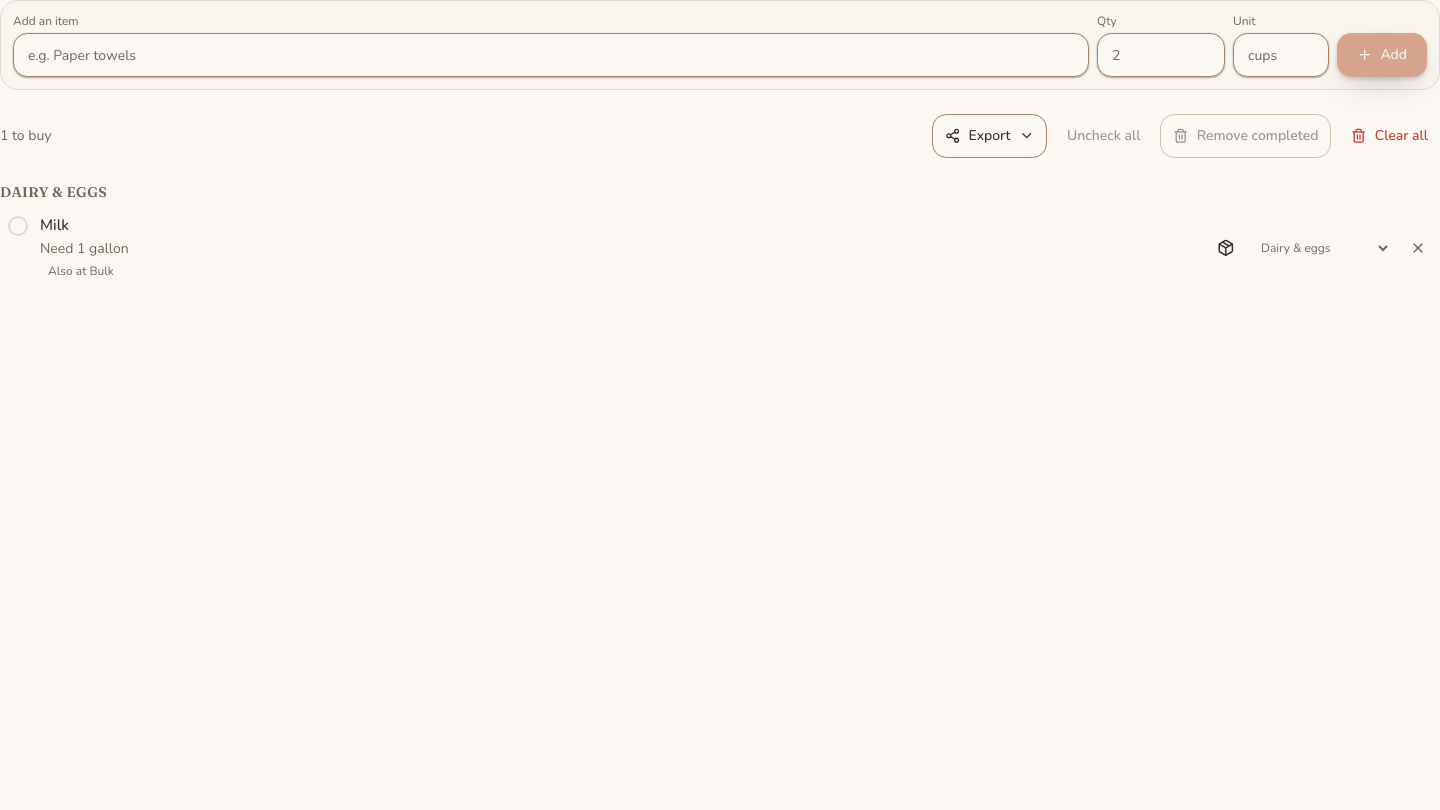
Test case: ShoppingListView package guidance › surfaces invalid package amounts and keeps focusable form controls
The image size is (1440, 810).
Step 1. Click the button named "Edit purchase settings for Milk" → coordinates (1226, 248), box [1204,226,1248,270]
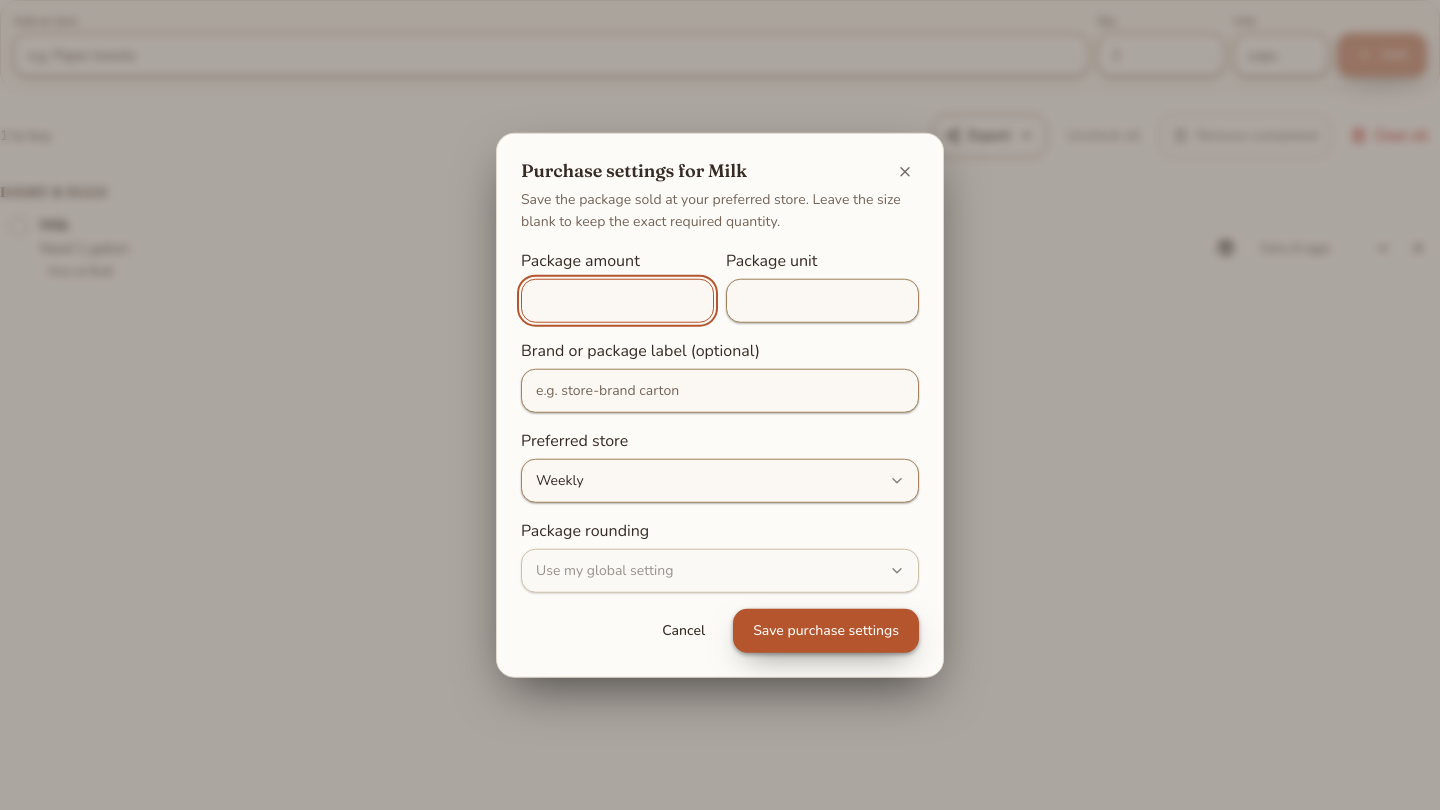
Step 2. Type "0" into the field labelled "Package amount" → coordinates (618, 300), box [521,278,714,322]
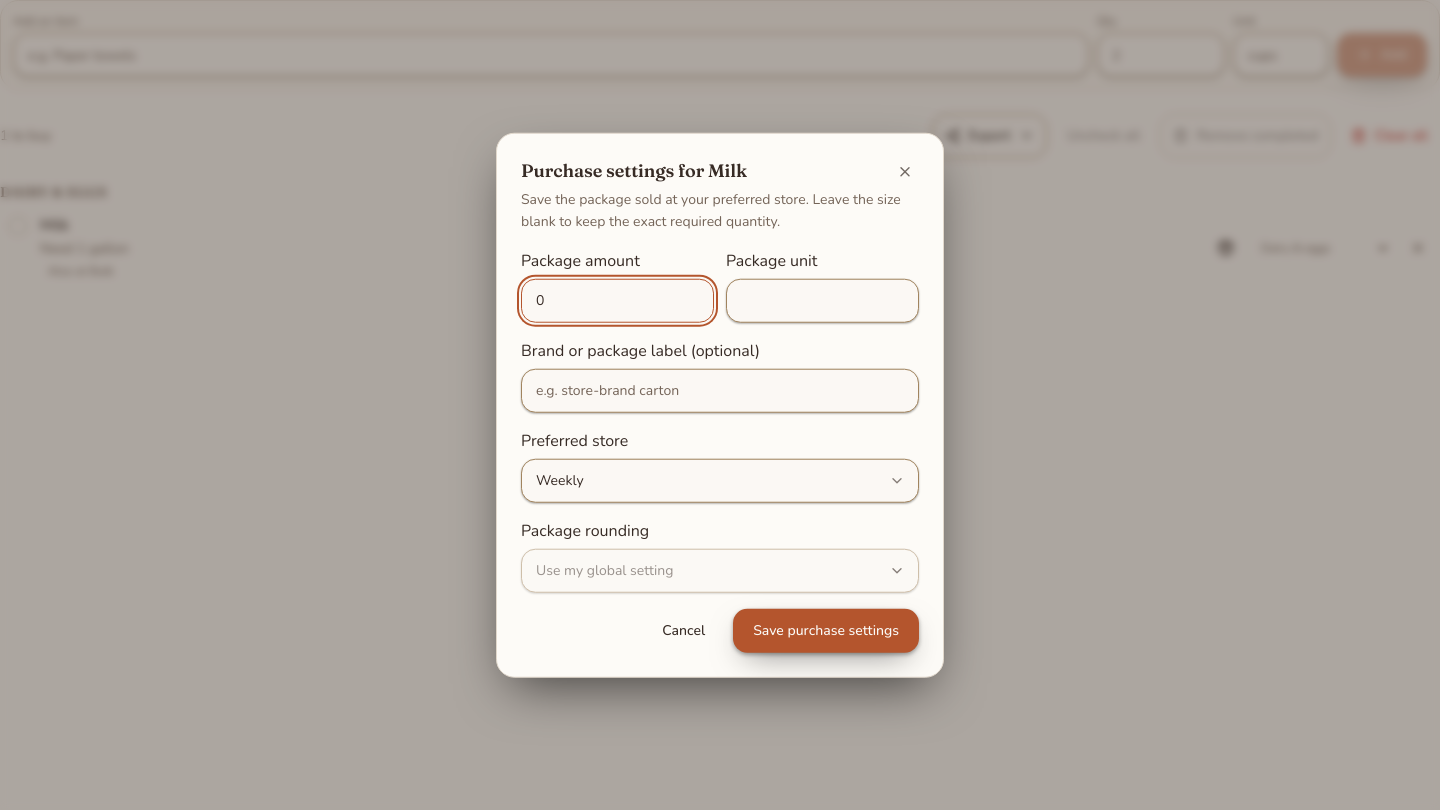
Step 3. Click the button "Save purchase settings" → coordinates (826, 630), box [733,608,919,652]
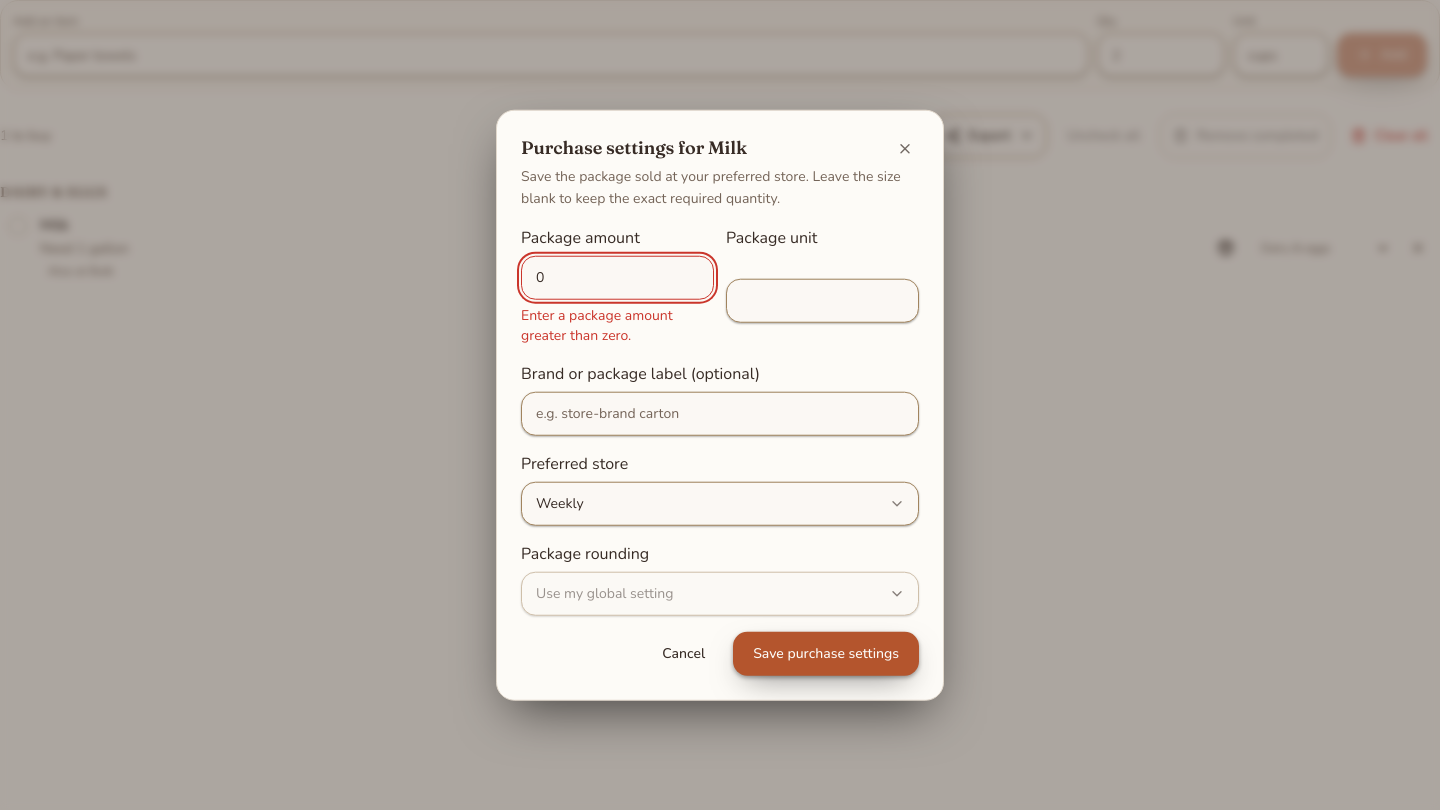
Result: the text "Enter a package amount greater than zero." is shown at [521,305,673,344]
